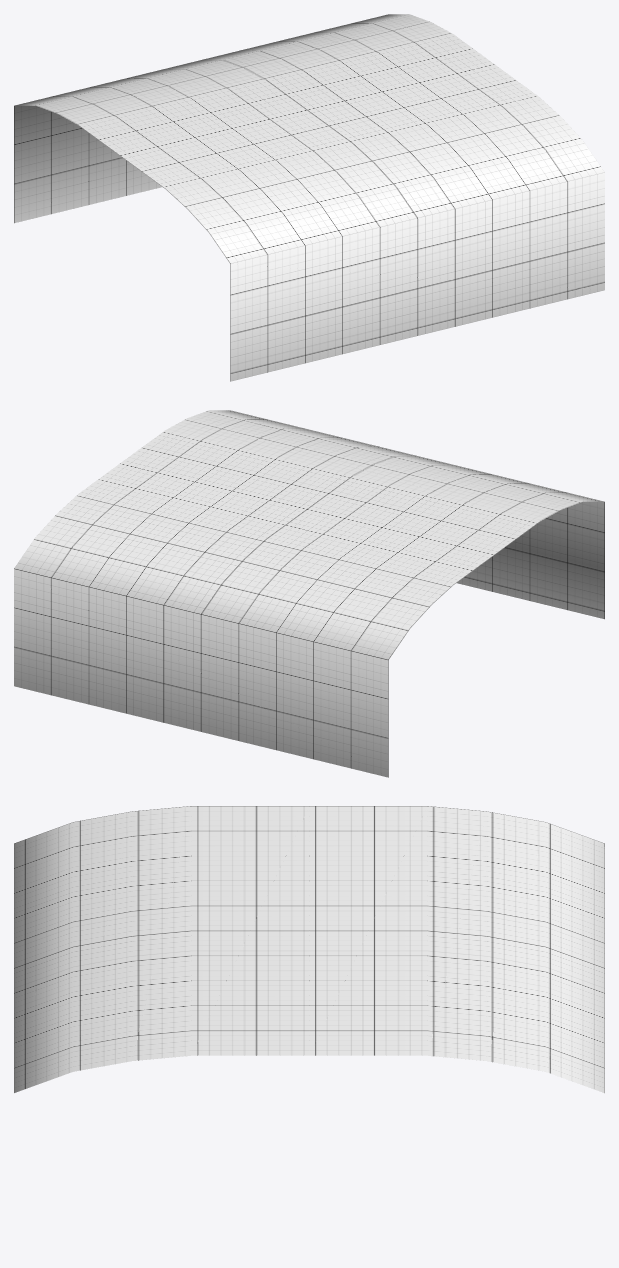
The model's file is Tile_Under_Bridge_10x10.fbx.
3 renders of one model, top to bottom at view 1: azimuth 30°, elevation 25°; view 2: azimuth 150°, elevation 25°; view 3: azimuth 270°, elevation 25°, orthographic. The views are drawn at different scales.
Parts seen in each view (by area): view 1: Tile_Under_Bridge_10x10; view 2: Tile_Under_Bridge_10x10; view 3: Tile_Under_Bridge_10x10.
Part boxes in pixels (bbox=[...]): Tile_Under_Bridge_10x10: bbox=[14, 14, 604, 381]; Tile_Under_Bridge_10x10: bbox=[14, 410, 604, 777]; Tile_Under_Bridge_10x10: bbox=[14, 806, 604, 1092].
Size of the model in its own units: 1000 by 370 by 1000.
